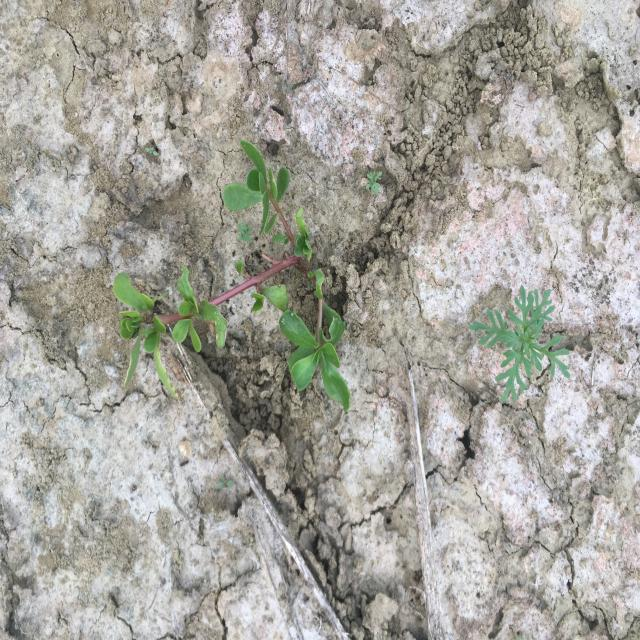Purslane: (111, 138, 352, 415)
Ragweed: (466, 284, 572, 406)
